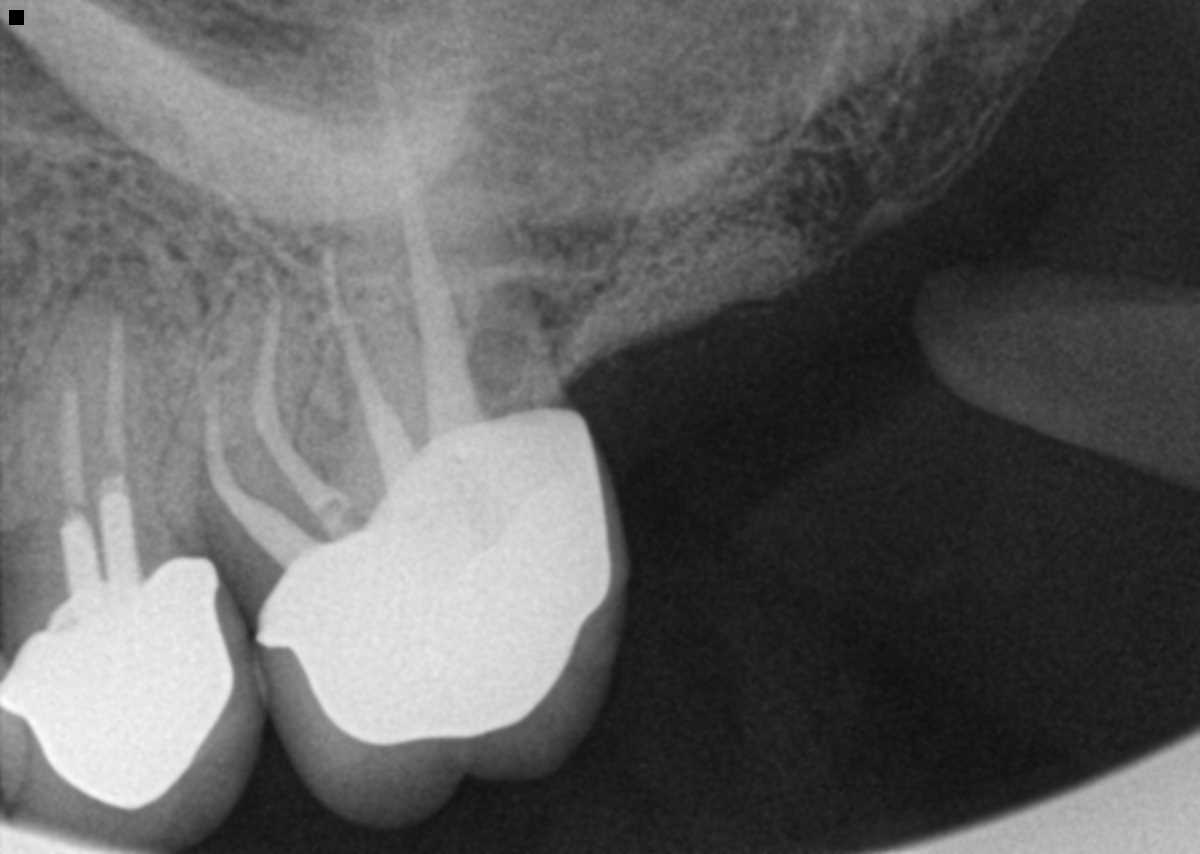Distal Root: (331, 0, 565, 463)
Main Root: (1, 249, 205, 626)
Mesial Root: (183, 235, 357, 598)
Root Canal Filling: (375, 16, 487, 441), (324, 243, 414, 488), (252, 292, 343, 523), (206, 382, 301, 560), (99, 318, 133, 496), (59, 393, 91, 515)
